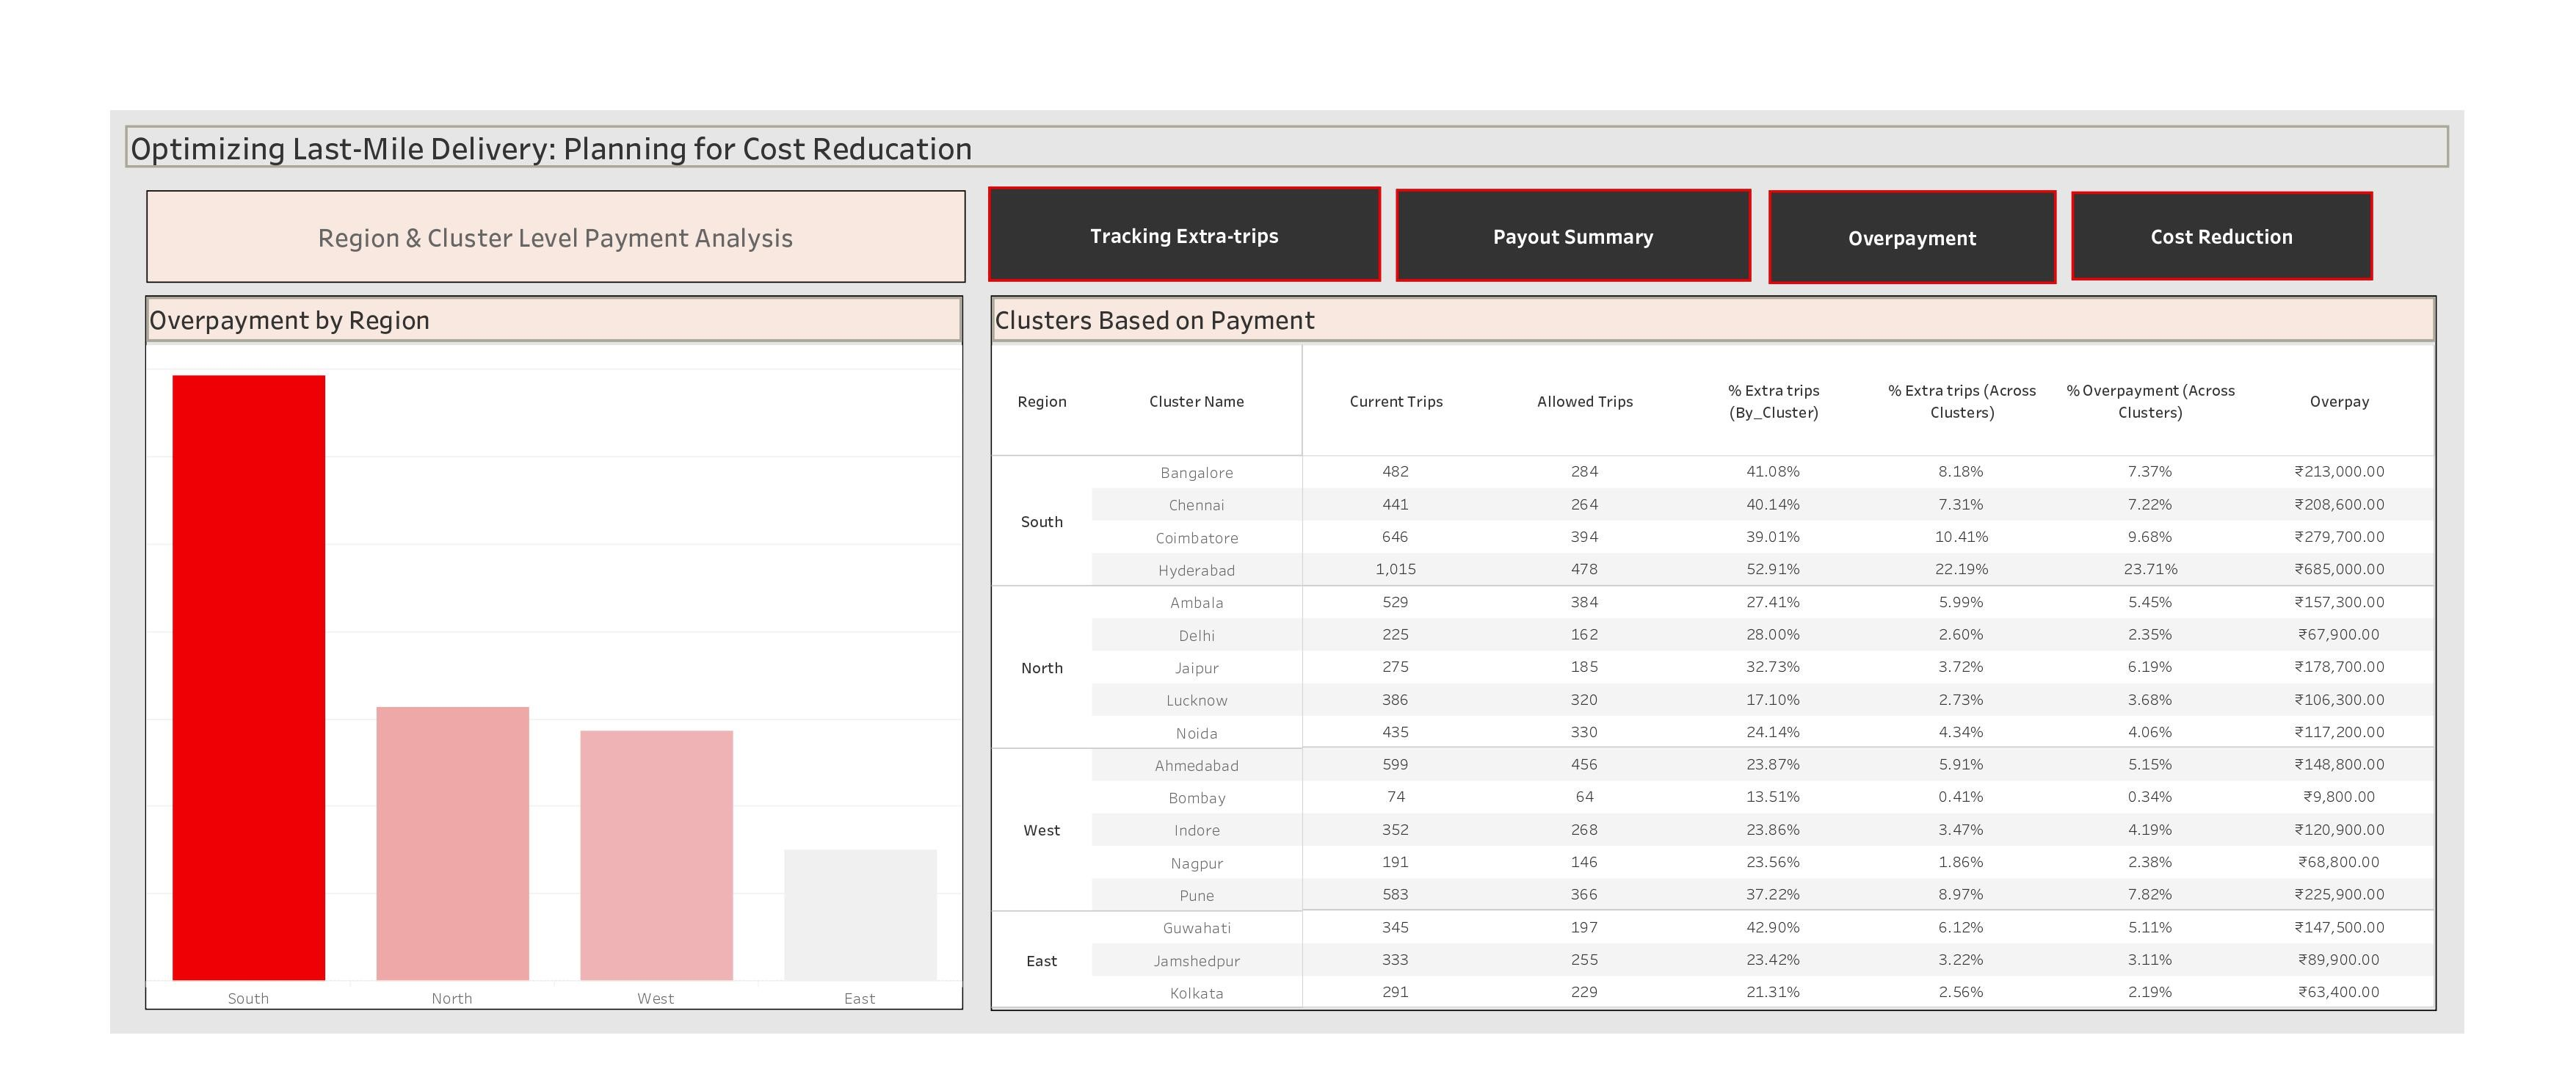

Layout of this report page (visuals, bound fields, positions):
{"tool":"tableau","page":{"name":"D4: Dashboard for Regional Manager ","canvas":[1000,1000],"units":"permille","ordinal":3},"visuals":[{"type":"title","box":[4.7,11.2,990.6,58.9]},{"type":"dashboard-object","box":[372.8,83.1,167.1,102.4]},{"type":"dashboard-object","box":[546.1,85.5,150.9,100]},{"type":"text","box":[15.6,86.8,347.9,100]},{"type":"dashboard-object","box":[704.5,86.8,122.2,101.2]},{"type":"dashboard-object","box":[832.9,88,128.4,96.4]},{"type":"worksheet","title":"Clusters Based on Payment","mark":"Automatic","rows":["region","cluster_name"],"box":[374.1,200,614.1,775.9]},{"type":"worksheet","title":"Overpayment by Region","mark":"Automatic","rows":["Calculation_1018657942275792912"],"cols":["region"],"box":[15,201.2,347.3,773.5]}]}

Visuals, with their boxes on the dashboard's canvas, which has no fixed pixel size, in thousandths of its width and height (x1, y1, x2, y2). These are canvas units, not pixel positions in the 2576x1091 screenshot, which may show the page scaled, cropped or inside an application window:
title: crop(5, 11, 995, 70)
dashboard-object: crop(373, 83, 540, 186)
dashboard-object: crop(546, 86, 697, 186)
text: crop(16, 87, 364, 187)
dashboard-object: crop(704, 87, 827, 188)
dashboard-object: crop(833, 88, 961, 184)
"Clusters Based on Payment" worksheet: crop(374, 200, 988, 976)
"Overpayment by Region" worksheet: crop(15, 201, 362, 975)
